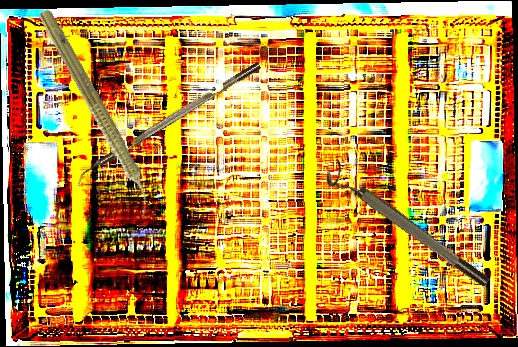Chopper: (71, 61, 267, 190)
Fixation Ring: (321, 159, 493, 297)
Handpiece: (29, 6, 165, 220)
